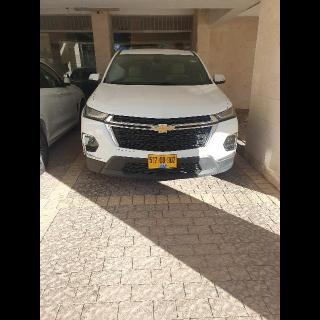LicensePlate: (149, 155, 177, 164)
